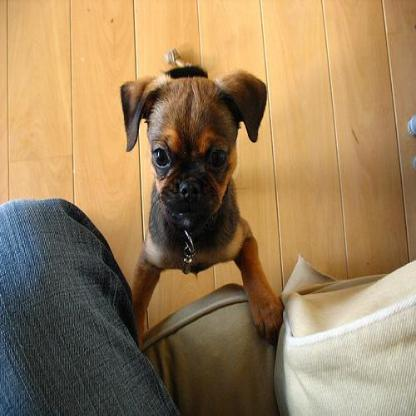Brabancon_griffon: (112, 46, 284, 342)
